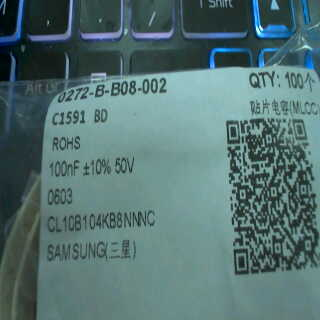100nF: (45, 156, 82, 179)
